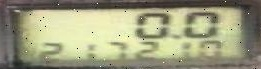-: (169, 33, 178, 38)
0: (133, 11, 169, 38), (182, 11, 216, 37), (196, 39, 219, 58)
1: (81, 41, 96, 60), (175, 40, 190, 57)
2: (37, 41, 62, 61), (133, 40, 157, 59)
7: (105, 40, 125, 58)
